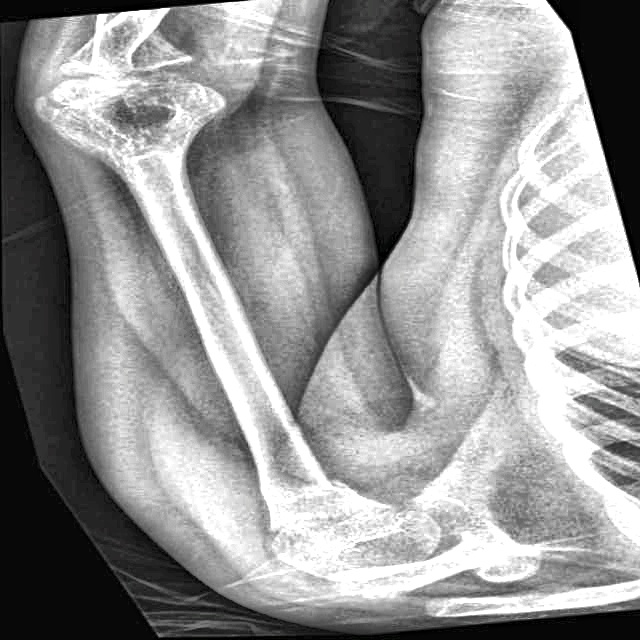Oblique Displaced: (226, 433, 337, 496)
